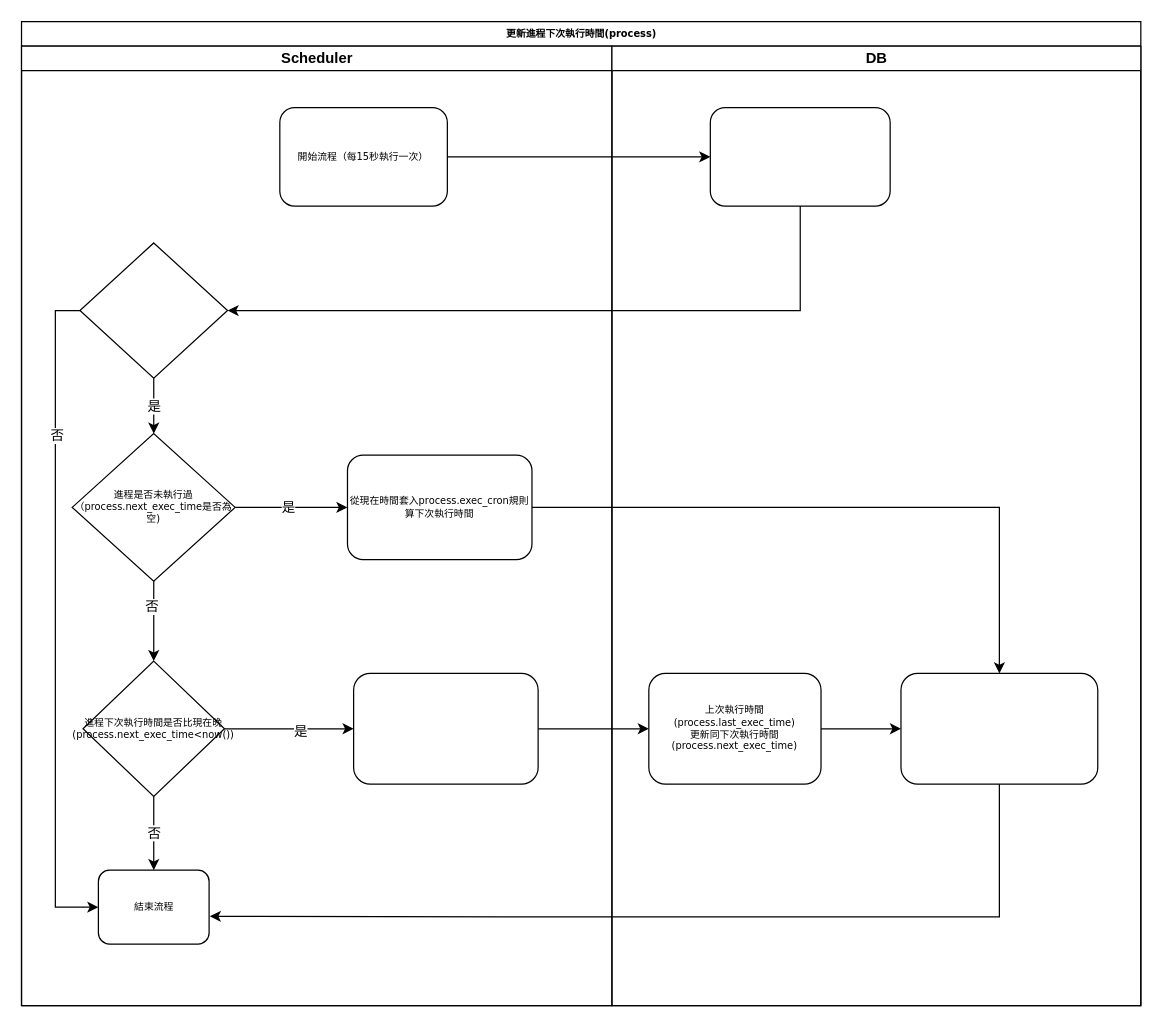
Some shapes in this 1162 by 1027 pixel diagram are drawn without their labels. The shapes that lost their labels are listed below. From the top down, each one's centre as x and y in pixels, then its label:
At point 799,156: "找未執行過或 下次執行時間比現在晚的已啟用進程".
At point 153,310: "是否有查到資料".
At point 445,728: "從下次執行時間(process.next_exec_time)套入process.exec_cron規則算下次執行時間".
At point 999,728: "下次執行時間(process.next_exec_time)更新為剛計算好新的下次執行時間".
